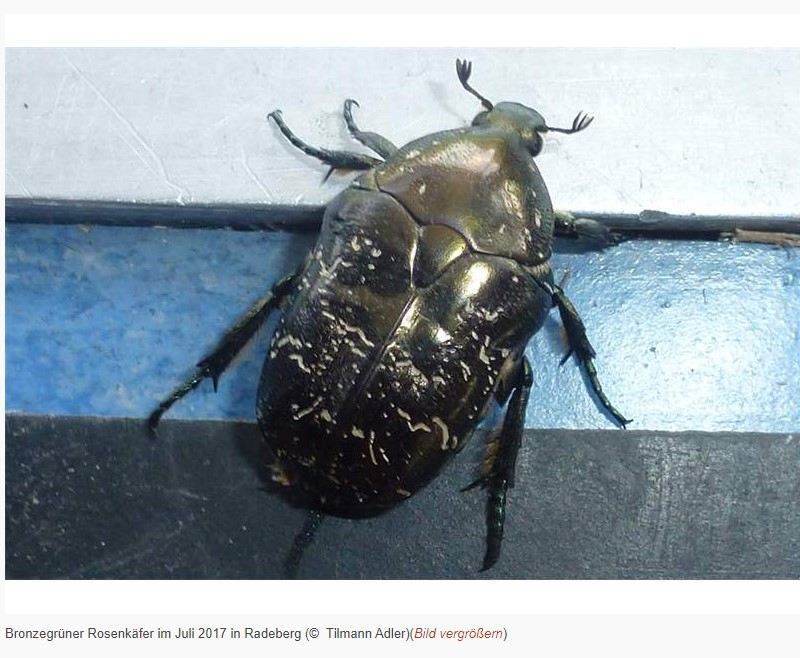Protaetia_lugubris: (144, 52, 633, 570)
